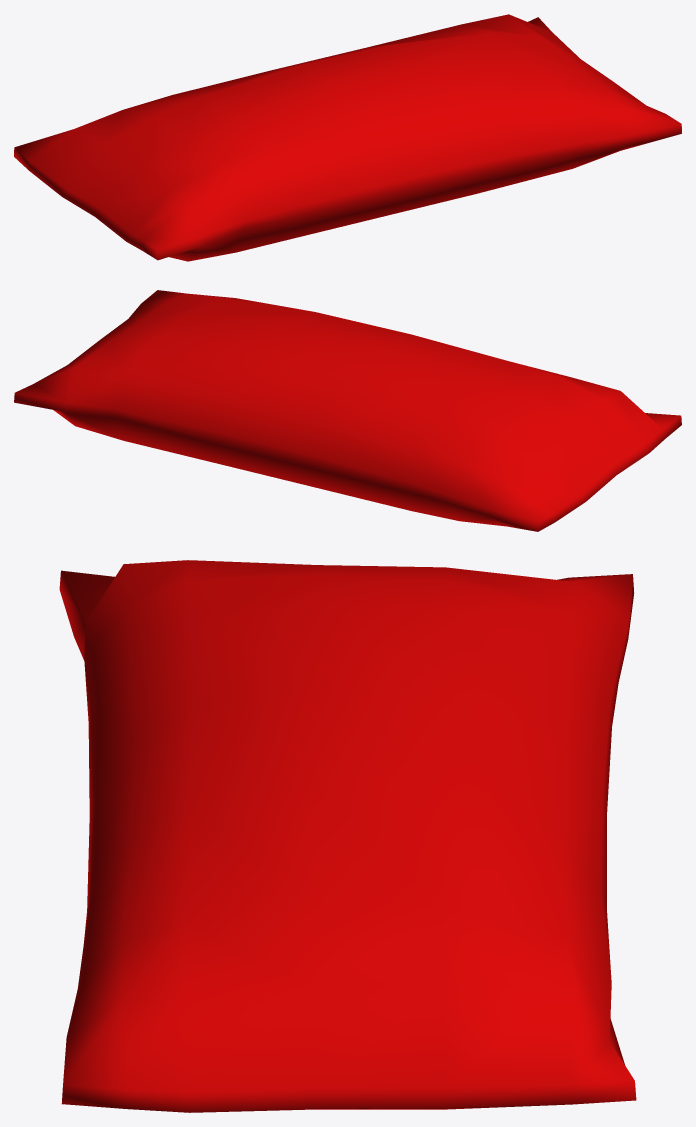
File: Attic_Pillow_03_LP.glb
The picture shows the model from 3 angles, top to bottom: view 1: azimuth 30°, elevation 25°; view 2: azimuth 150°, elevation 25°; view 3: azimuth 270°, elevation 25°; orthographic projection. The views are drawn at different scales.
Parts seen in each view (by area): view 1: Attic_Pillow_03_LP; view 2: Attic_Pillow_03_LP; view 3: Attic_Pillow_03_LP.
Boxes of the visible parts, left/top/right/bottom form: Attic_Pillow_03_LP: left=14, top=14, right=681, bottom=261; Attic_Pillow_03_LP: left=14, top=290, right=681, bottom=531; Attic_Pillow_03_LP: left=59, top=560, right=636, bottom=1112.
Bounding box in the file's own units: 1.34 × 0.2368 × 0.6382.
